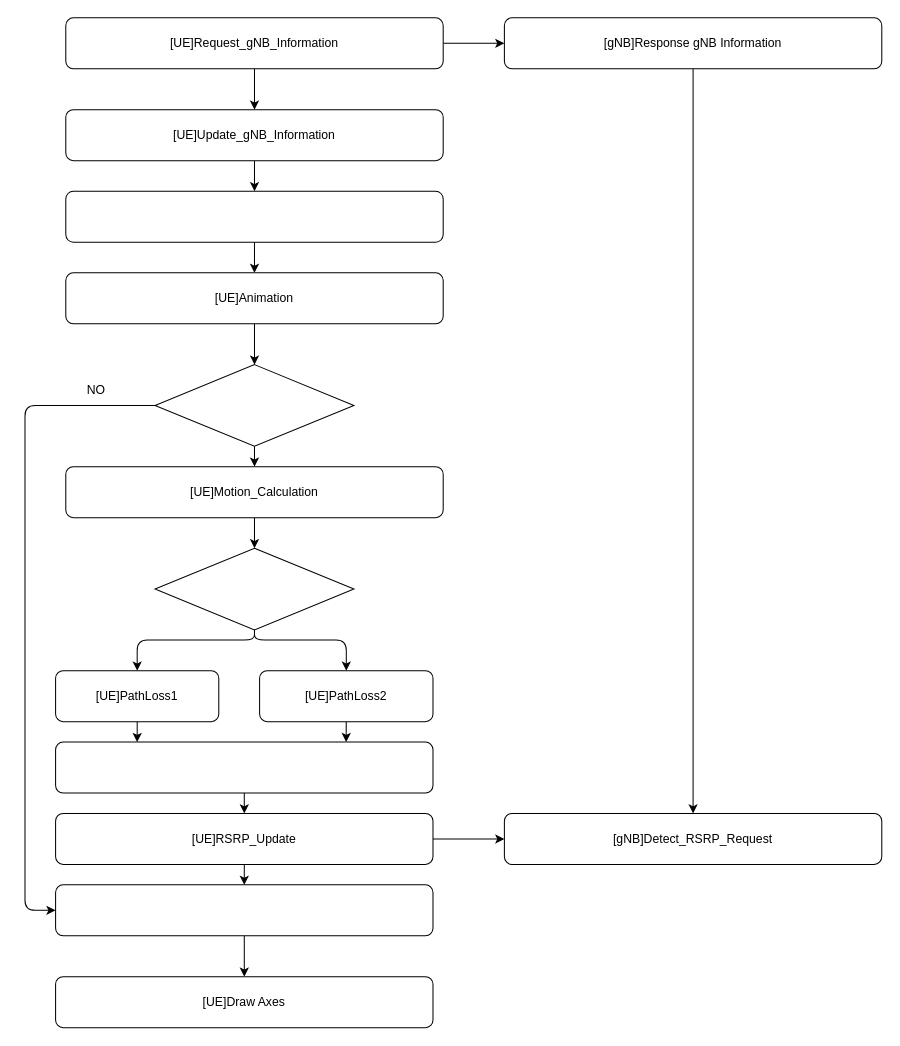
Image size: 900x1046. Some labels were removed from this diagram. Here are the shapes that lost their labels. From the top down, the centre of each, then its label:
At (254,216): "[UE] Initial_Calculation".
At (254,405): "Key_Event".
At (254,588): "PathLoss Model".
At (244,767): "[UE]RSRP_Calculation".
At (244,910): "[UE]Clear axes".
